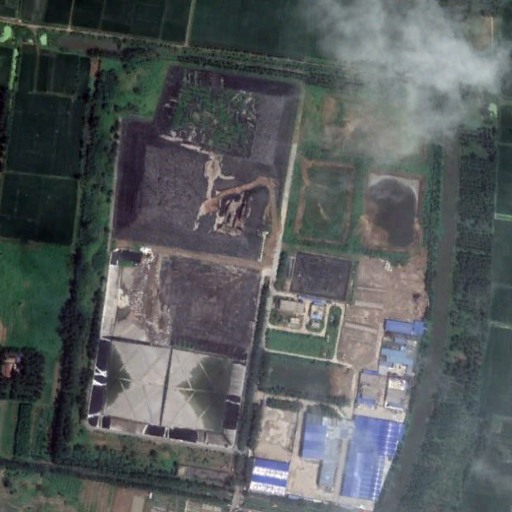lf: (113, 65, 299, 257), (86, 243, 257, 451)
